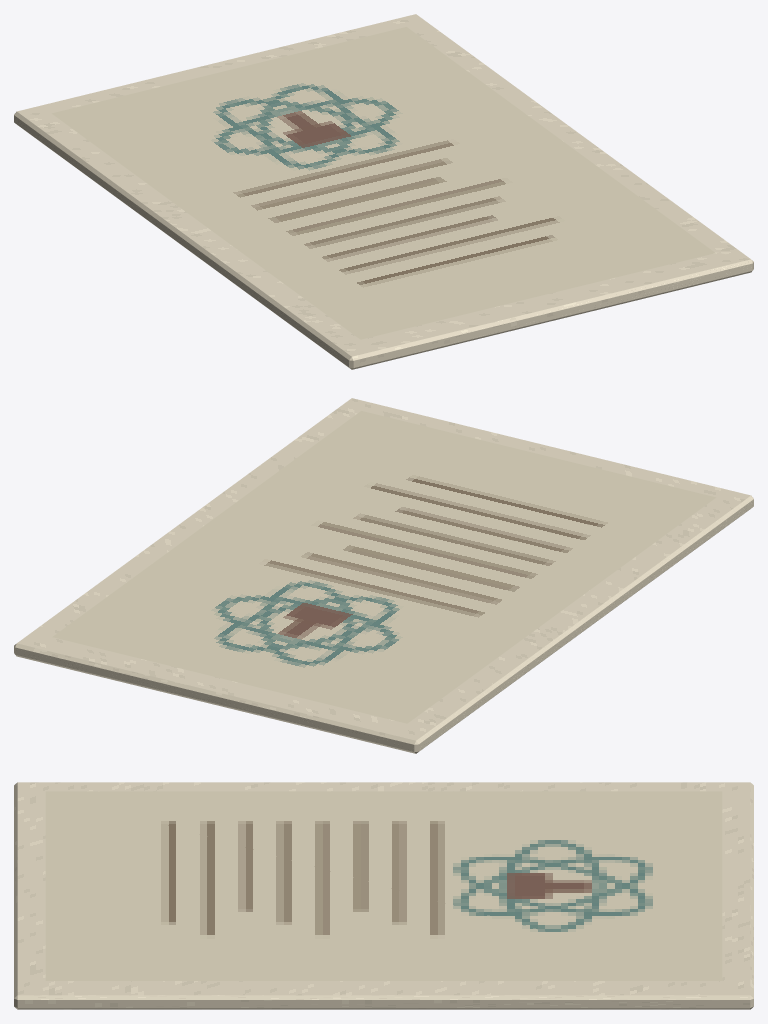
File: lab_file_bio.glb
The picture shows the model from 3 angles, top to bottom: view 1: azimuth 30°, elevation 25°; view 2: azimuth 150°, elevation 25°; view 3: azimuth 270°, elevation 25°; orthographic projection. The views are drawn at different scales.
Parts seen in each view (by area): view 1: block_department insignia and printed lines, block_official protocol sheet; view 2: block_department insignia and printed lines, block_official protocol sheet; view 3: block_department insignia and printed lines, block_official protocol sheet.
Boxes of the visible parts, left/top/right/bottom form: block_department insignia and printed lines: left=51, top=27, right=715, bottom=339; block_official protocol sheet: left=14, top=14, right=753, bottom=369; block_department insignia and printed lines: left=52, top=411, right=716, bottom=723; block_official protocol sheet: left=14, top=398, right=753, bottom=753; block_department insignia and printed lines: left=45, top=791, right=722, bottom=980; block_official protocol sheet: left=14, top=782, right=753, bottom=1009.
Bounding box in the file's own units: 0.1008 × 0.00366 × 0.1459.
1 material, 1 textured.
